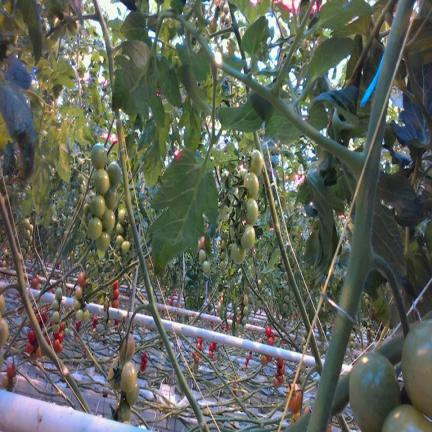6kp_peduncle: (339, 207, 409, 339), (126, 284, 160, 337), (0, 266, 29, 305)
6kp_petiole: (310, 115, 386, 230), (82, 0, 107, 34)
MainStem: (308, 0, 415, 432), (115, 110, 210, 432), (0, 194, 94, 415), (254, 129, 323, 377), (93, 1, 115, 88)
tomato: (349, 351, 400, 431), (401, 319, 432, 418), (381, 405, 432, 431), (121, 362, 136, 393), (108, 358, 122, 390), (288, 383, 302, 414), (91, 143, 107, 169), (120, 333, 135, 360), (243, 172, 258, 198), (94, 169, 109, 194), (90, 194, 105, 218), (241, 224, 255, 249), (104, 185, 118, 210), (107, 161, 121, 186), (250, 150, 263, 176), (101, 208, 115, 232), (231, 242, 246, 264), (246, 198, 258, 224), (88, 217, 102, 239), (126, 382, 139, 405), (119, 398, 131, 422), (96, 231, 109, 251), (0, 318, 8, 346), (6, 362, 15, 380), (27, 329, 36, 343), (26, 341, 35, 354), (116, 234, 123, 250), (0, 294, 5, 315), (78, 271, 85, 286), (237, 168, 247, 178), (121, 241, 130, 252), (202, 261, 210, 273), (116, 222, 124, 234), (55, 287, 62, 300), (52, 310, 59, 323), (83, 309, 90, 322), (75, 286, 82, 299), (199, 249, 206, 262), (118, 209, 125, 222), (73, 299, 81, 310), (52, 298, 59, 310), (76, 309, 83, 321), (83, 202, 90, 214), (53, 338, 60, 350), (52, 323, 59, 334), (223, 3, 229, 14), (273, 377, 279, 388), (77, 174, 84, 183), (267, 337, 274, 346), (112, 299, 119, 308), (23, 218, 29, 228), (22, 238, 28, 248), (113, 289, 119, 299), (220, 261, 225, 272), (243, 294, 248, 305), (266, 326, 271, 337), (57, 343, 63, 352), (28, 224, 33, 234), (25, 230, 30, 240), (220, 12, 225, 22), (238, 323, 243, 333), (284, 286, 290, 294), (243, 306, 248, 315), (242, 316, 247, 325), (58, 333, 63, 342), (220, 0, 224, 11), (201, 236, 204, 248), (225, 15, 229, 24), (79, 185, 84, 192), (27, 245, 30, 253)
